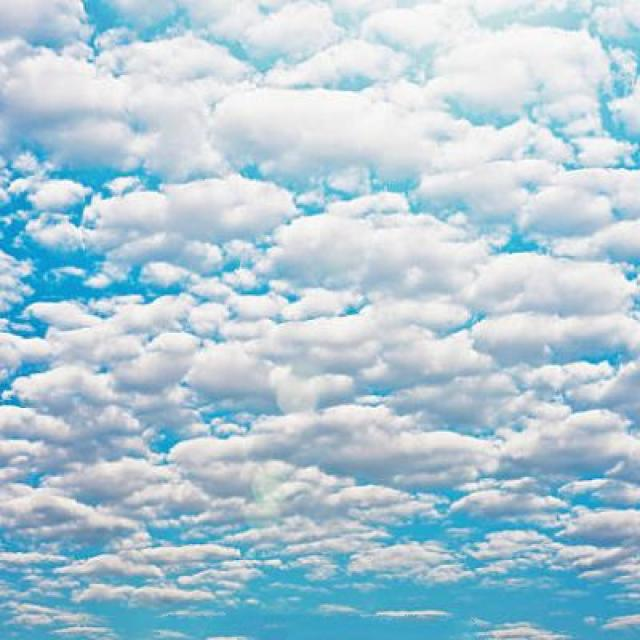Cc: (1, 44, 640, 517)
